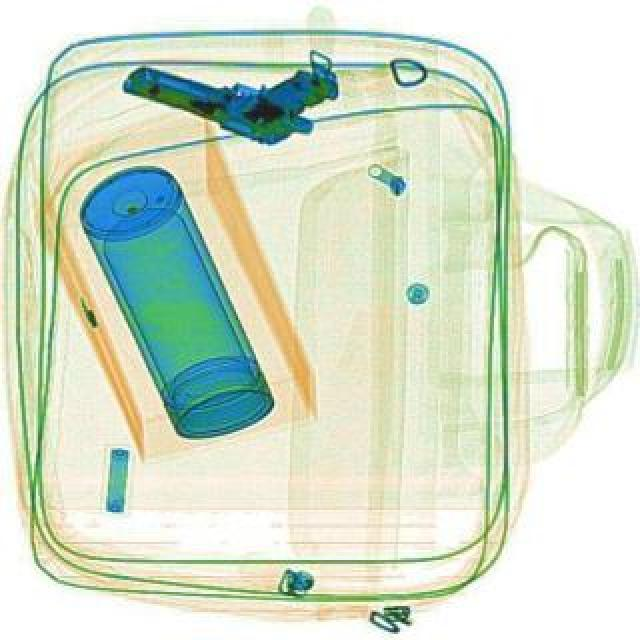gun: (116, 22, 342, 158)
